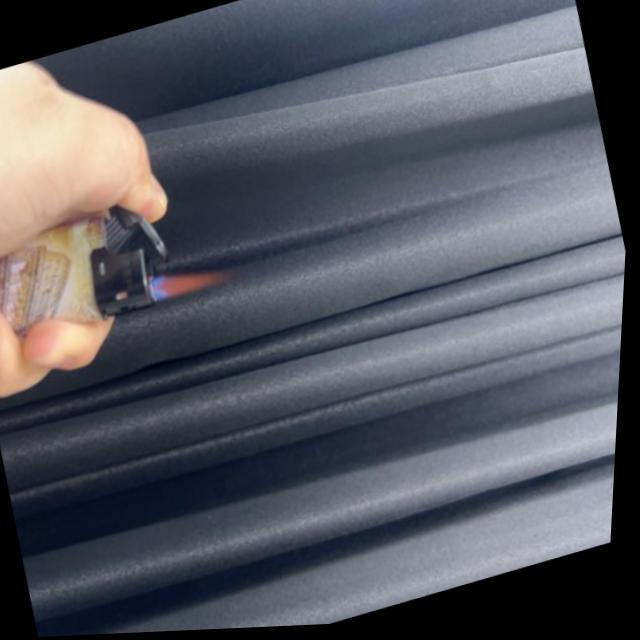Fire: (148, 259, 233, 310)
